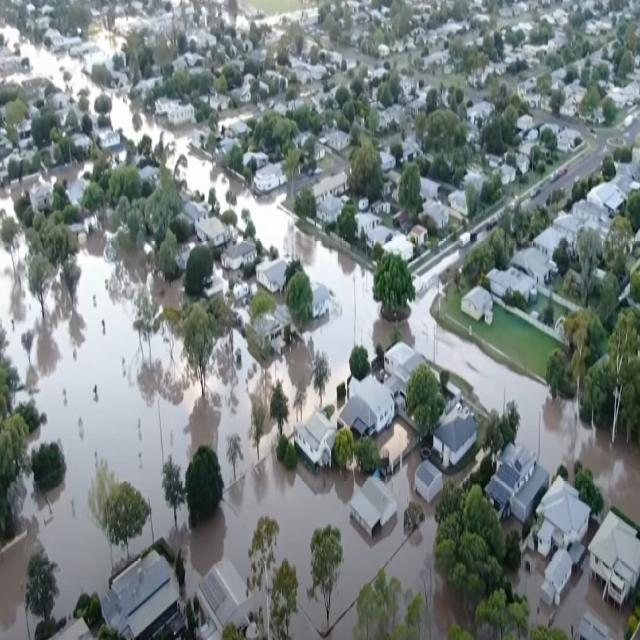flood: (0, 130, 640, 640), (517, 553, 626, 640), (0, 30, 91, 90), (111, 91, 163, 140)
house: (107, 550, 181, 638), (588, 503, 640, 615), (484, 442, 547, 528), (199, 554, 252, 638), (532, 478, 590, 554), (338, 370, 396, 442), (349, 471, 402, 542), (296, 411, 338, 472), (436, 414, 476, 466), (589, 176, 632, 222), (382, 341, 435, 377), (222, 236, 258, 277), (257, 254, 293, 294), (39, 617, 98, 640), (414, 460, 444, 500), (251, 162, 286, 192), (464, 286, 494, 320), (534, 226, 565, 258), (197, 216, 228, 245), (168, 97, 192, 127), (100, 129, 122, 149)
